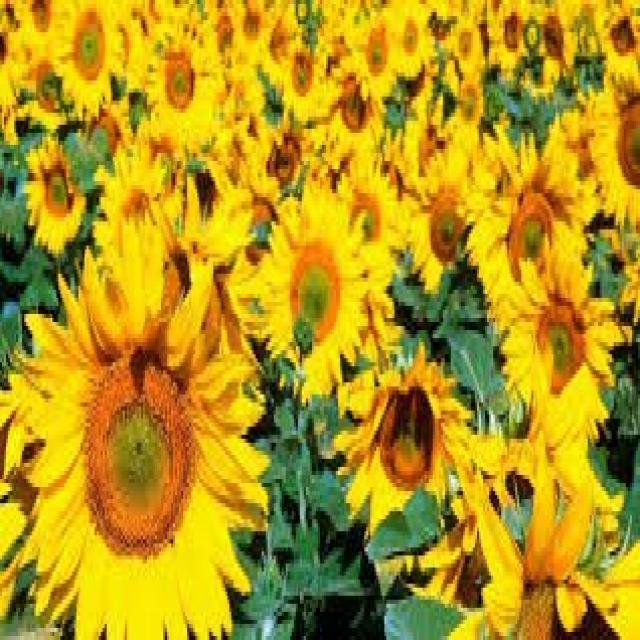sunflower: (7, 219, 275, 638), (344, 338, 469, 592), (255, 179, 365, 401), (484, 141, 587, 330), (514, 270, 615, 451), (142, 6, 218, 147), (17, 119, 92, 244), (415, 155, 483, 292), (587, 70, 640, 235), (59, 2, 120, 131), (325, 52, 383, 165), (257, 107, 311, 207), (528, 0, 577, 85), (386, 0, 433, 85), (284, 38, 326, 123), (495, 0, 531, 64), (231, 0, 271, 56)
